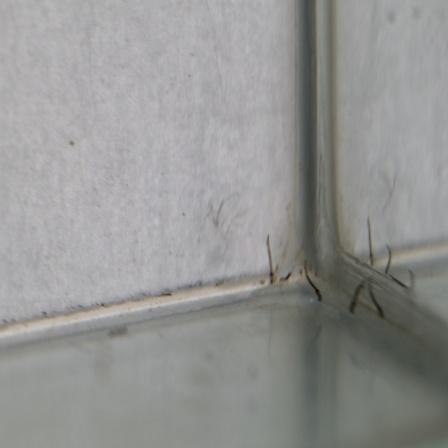Jentik-Nyamuk: (347, 272, 387, 320), (301, 256, 325, 304), (262, 230, 277, 286)
